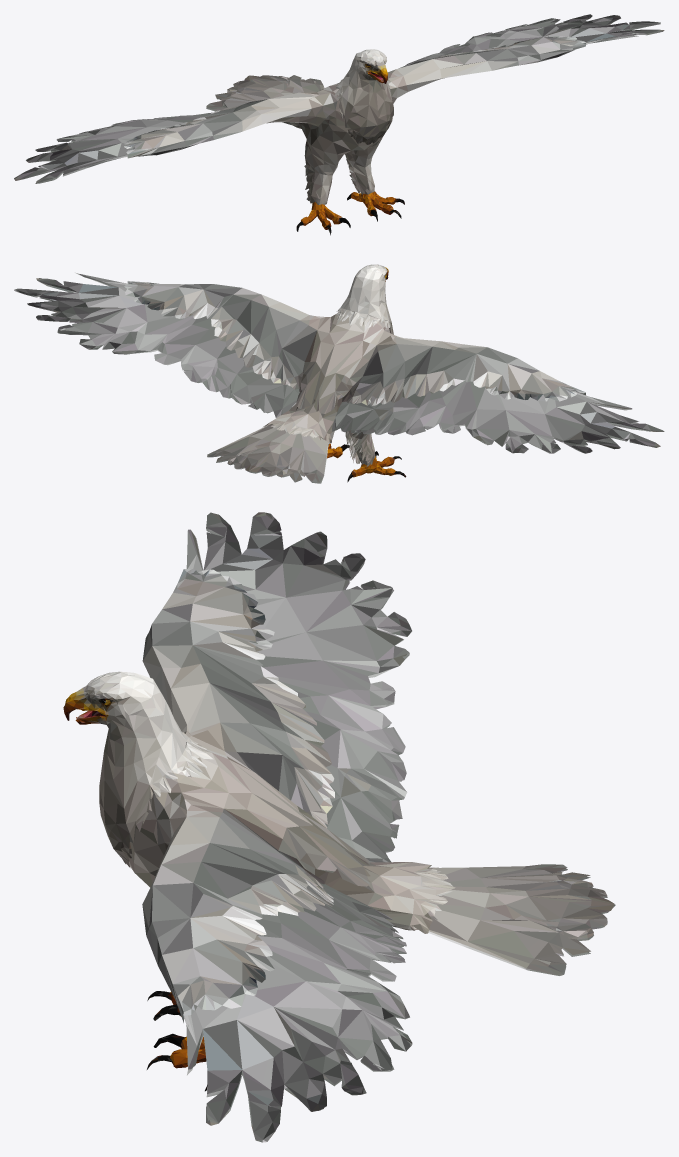
Rendered from AnimalEagle.fbx.
3 renders of one model, top to bottom at view 1: azimuth 30°, elevation 25°; view 2: azimuth 150°, elevation 25°; view 3: azimuth 270°, elevation 25°, orthographic. The views are drawn at different scales.
Visible parts, largest first — view 1: Eagle; view 2: Eagle; view 3: Eagle.
Boxes of the visible parts, x1,y1,x2,y2 form: Eagle: (14,14,664,235); Eagle: (14,264,664,483); Eagle: (63,512,615,1142).
Bounding box in the file's own units: 52.69 × 14.25 × 19.5.
1 material, 1 textured.
